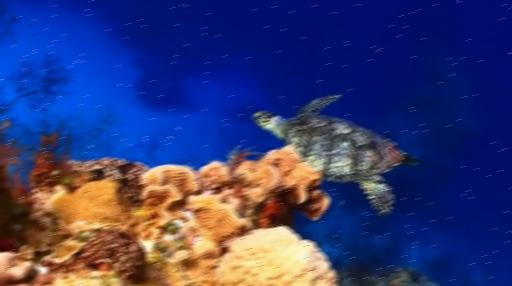Fish: (253, 95, 416, 215)
